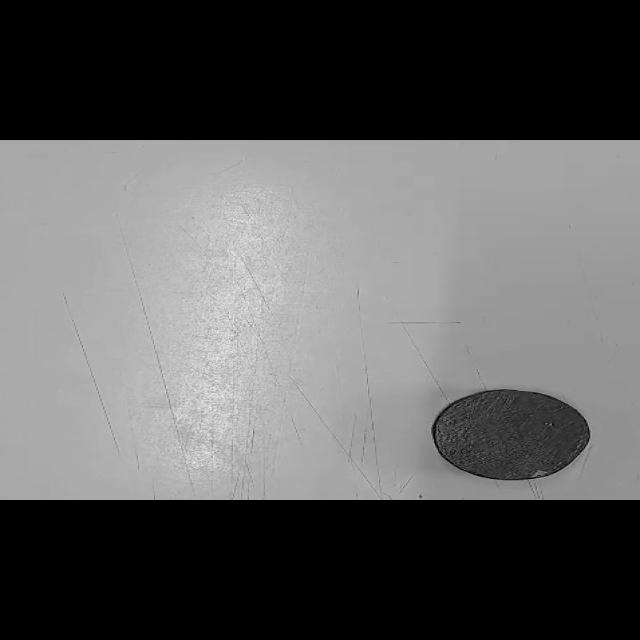rcircle: (431, 390, 589, 481)
